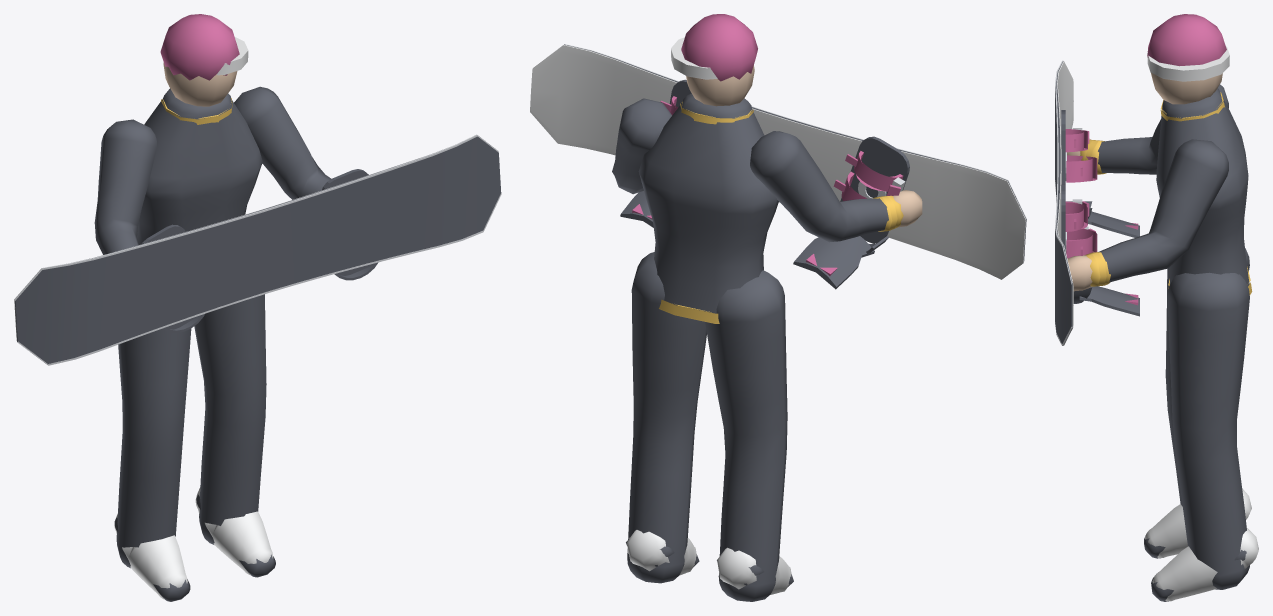
File: snowboard-gear-and-freestyle-riders-shop-assistant-pre-d0fc4c14__27174.glb
3 views of the same model, side by side, from view 1: azimuth 30°, elevation 25°; view 2: azimuth 150°, elevation 25°; view 3: azimuth 270°, elevation 25° (orthographic). The views are drawn at different scales.
Parts seen in each view (by area): view 1: shop-assistant-presenting-board; view 2: shop-assistant-presenting-board; view 3: shop-assistant-presenting-board.
Part boxes in pixels (<box>): shop-assistant-presenting-board: <box>14,14,501,601</box>; shop-assistant-presenting-board: <box>530,14,1026,601</box>; shop-assistant-presenting-board: <box>1055,14,1258,601</box>.
Bounding box in the file's own units: 1.53 × 1.69 × 0.557.
